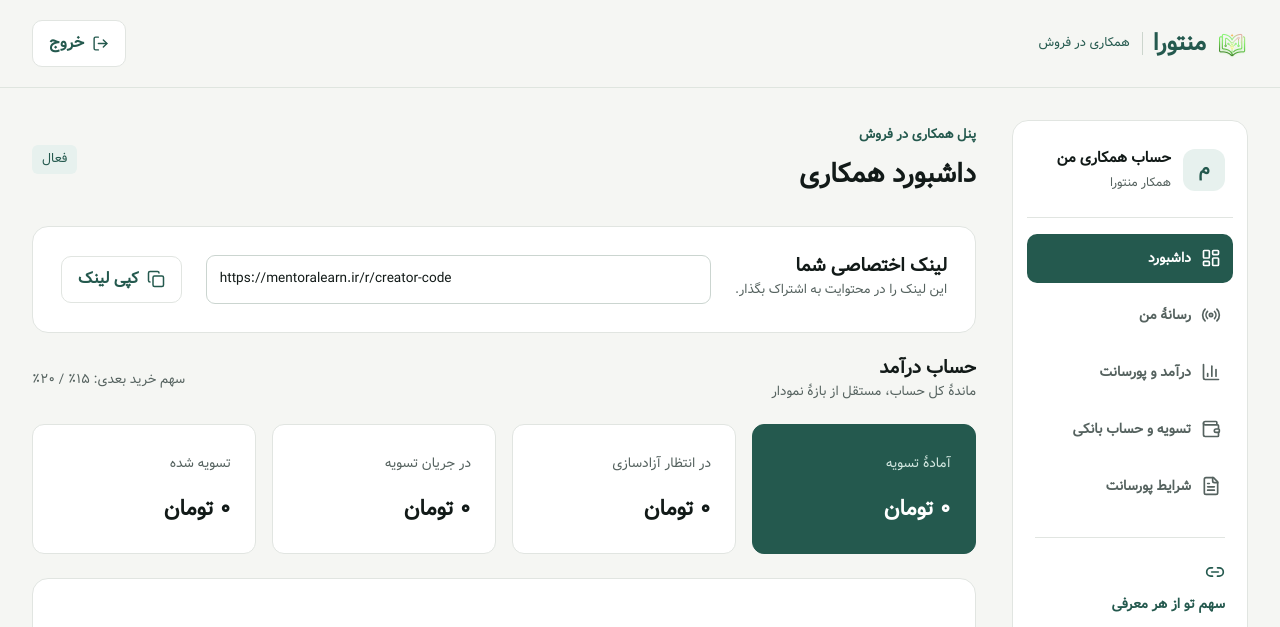
it: copy failure leaves the readable referral link and a useful error
Click the button "کپی لینک": [121, 279] box [61,256,182,303]
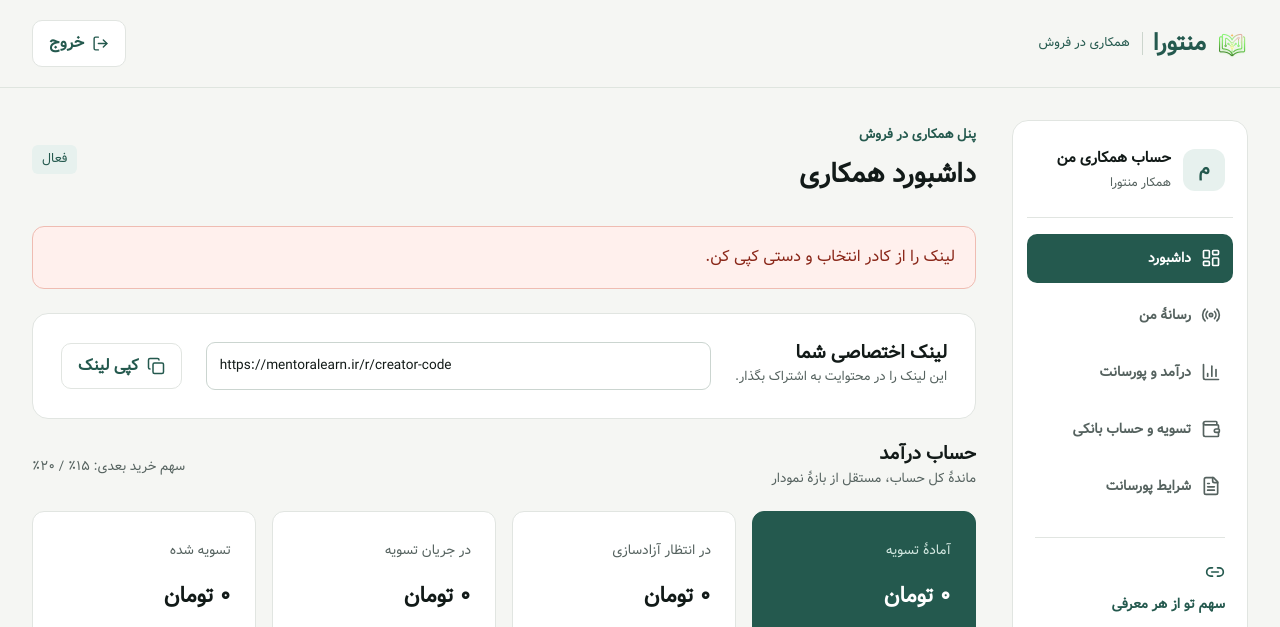
Check: the field named "لینک اختصاصی شما" holds "https://mentoralearn.ir/r/creator-code", box [206,342,711,390]
Check: the message reads "لینک را از کادر انتخاب و دستی کپی کن.", box [705,244,955,269]
